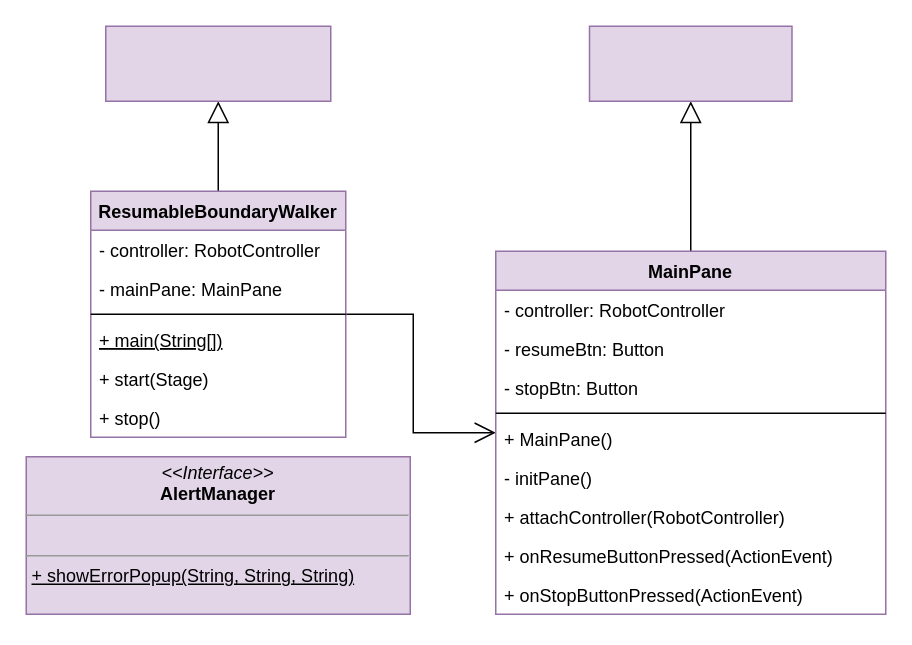
Some shapes in this 912 by 645 pixel diagram are drawn without their labels. The shapes that lost their labels are listed below. From the top down, each one's box as (x1, y1, x2, y2) in pixels, then its label:
(104, 25, 331, 101): Application
(588, 25, 792, 101): VBox
